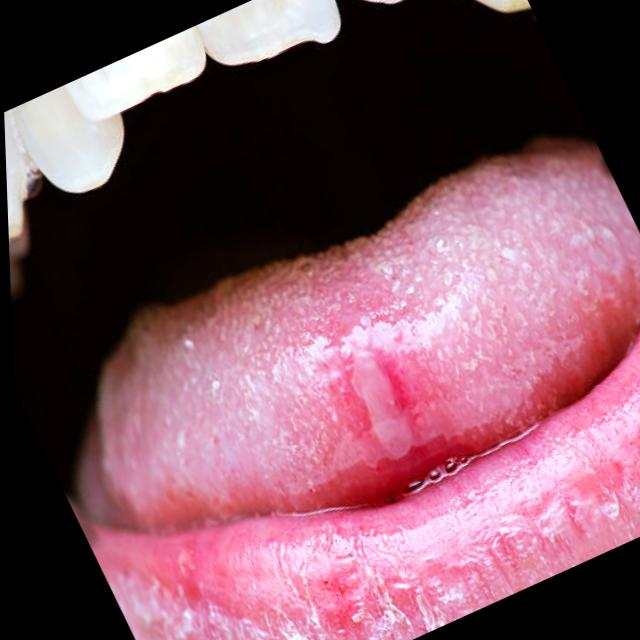ulcer: (346, 339, 411, 457)
